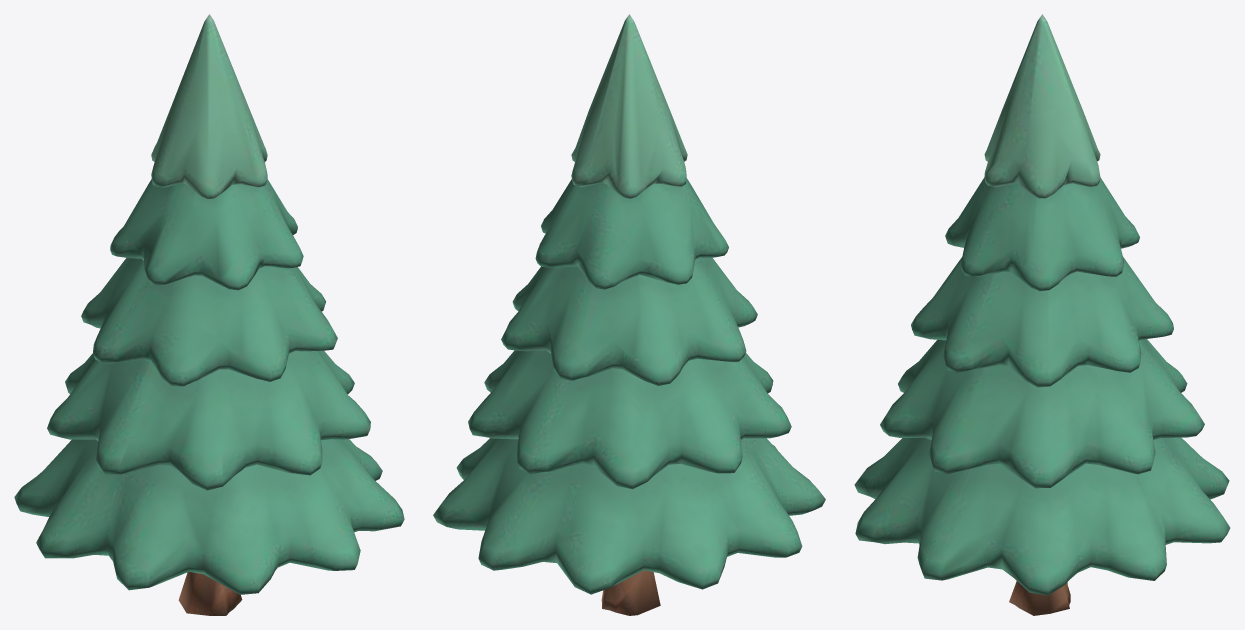
File: pine-tree.glb
The picture shows the model from 3 angles, left to right: view 1: azimuth 30°, elevation 25°; view 2: azimuth 150°, elevation 25°; view 3: azimuth 270°, elevation 25°; orthographic projection.
Visible parts, largest first — view 1: pine-tree_body; view 2: pine-tree_body; view 3: pine-tree_body.
Boxes of the visible parts, x1,y1,x2,y2 form: pine-tree_body: [14, 14, 404, 615]; pine-tree_body: [433, 14, 825, 615]; pine-tree_body: [854, 14, 1230, 615].
Size of the model in its own units: 3.45 by 5.7 by 3.3.
1 material, 1 textured.
